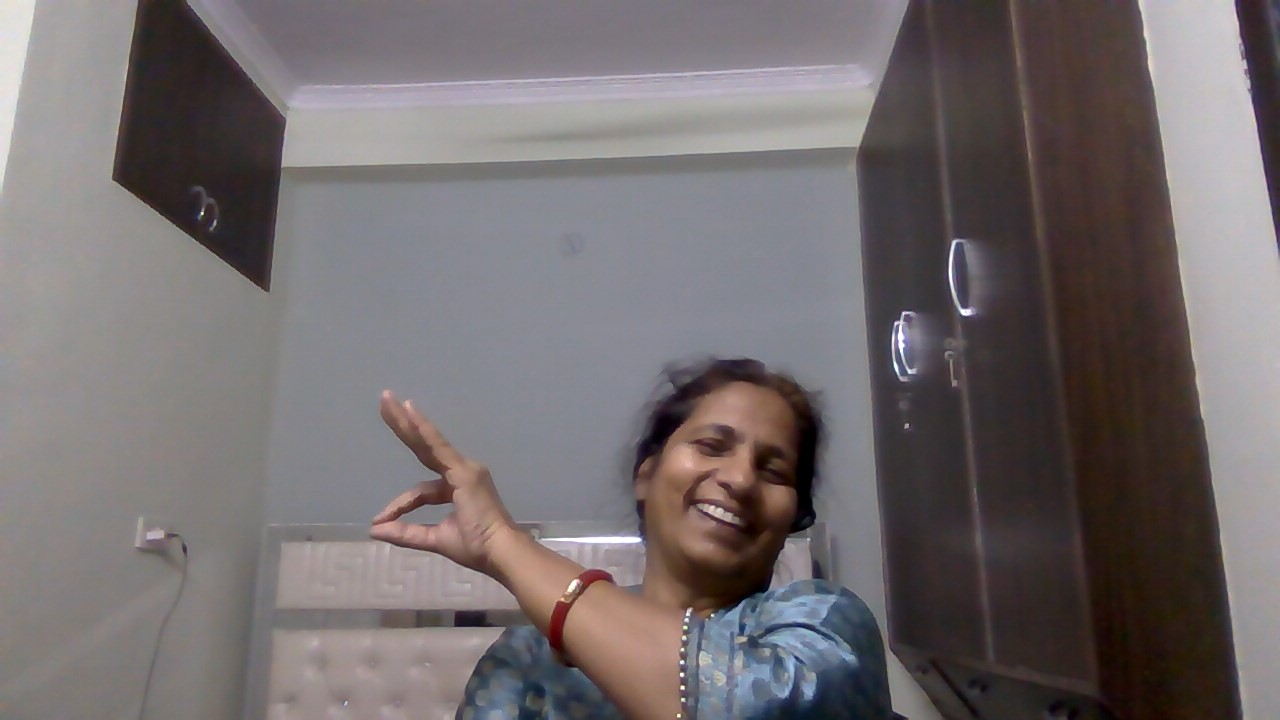Copy: (351, 376, 526, 586)
